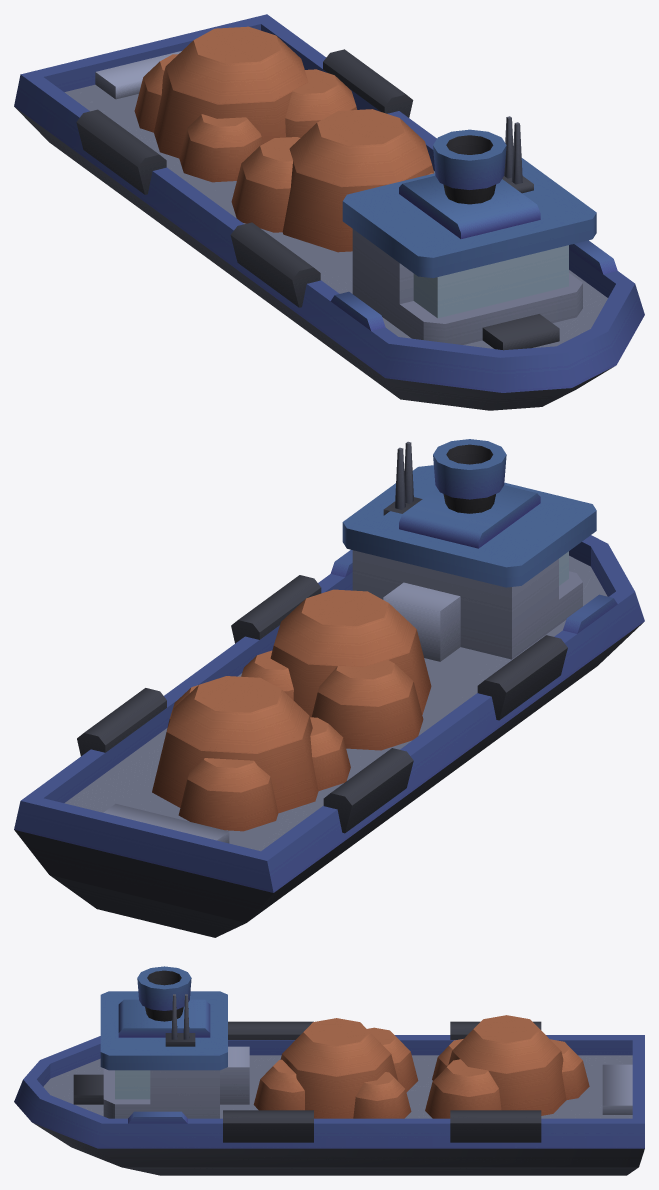
Rendered from ship_cargo_b.glb.
The picture shows the model from 3 angles, top to bottom: view 1: azimuth 30°, elevation 25°; view 2: azimuth 150°, elevation 25°; view 3: azimuth 270°, elevation 25°; orthographic projection. The views are drawn at different scales.
Parts seen in each view (by area): view 1: ship-cargo-b, cargo-b, cargo-a; view 2: ship-cargo-b, cargo-b, cargo-a; view 3: ship-cargo-b, cargo-a, cargo-b.
Boxes of the visible parts, x1,y1,x2,y2 form: ship-cargo-b: (14, 14, 644, 410); cargo-b: (134, 26, 357, 182); cargo-a: (231, 109, 433, 252); ship-cargo-b: (14, 439, 644, 937); cargo-b: (152, 676, 350, 831); cargo-a: (241, 589, 431, 750); ship-cargo-b: (14, 966, 644, 1175); cargo-a: (253, 1018, 418, 1118); cargo-b: (425, 1015, 589, 1118).
Size of the model in its own units: 3.92 by 3.3 by 10.55.
Materials: 1 (1 with a texture image).
